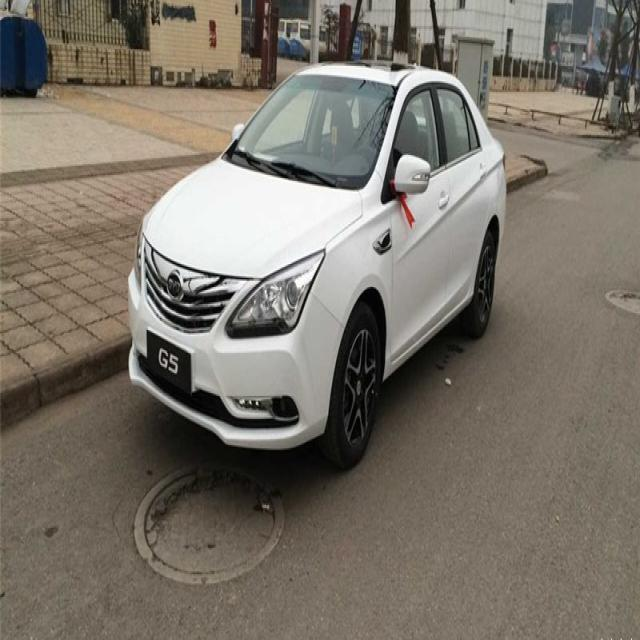door: (437, 82, 499, 320)
front_bumper: (126, 269, 344, 451)
front_glass: (232, 72, 398, 190)
front_left_side_door: (386, 78, 452, 370)
front_left_side_light: (225, 247, 327, 341)
front_left_side_mirror: (393, 153, 430, 200)
front_right_side_light: (132, 218, 146, 292)
front_right_side_mirror: (232, 118, 242, 143)
wheel: (324, 304, 381, 460), (467, 228, 496, 338)
